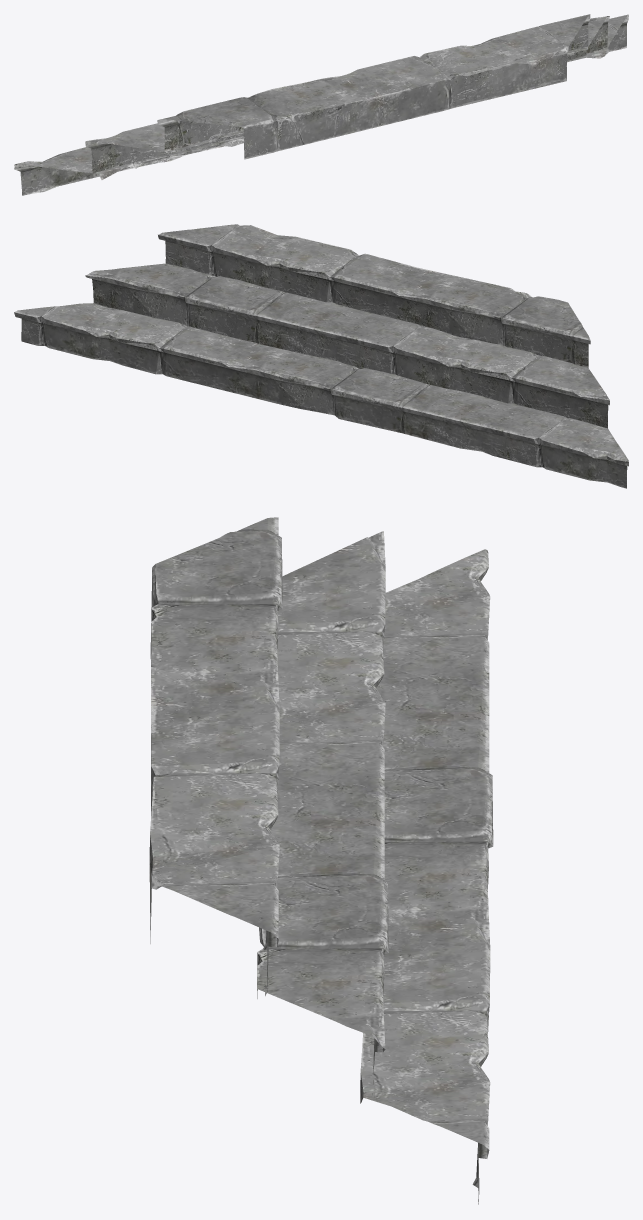
The picture shows the model from 3 angles, top to bottom: view 1: azimuth 30°, elevation 25°; view 2: azimuth 150°, elevation 25°; view 3: azimuth 270°, elevation 25°; orthographic projection. The views are drawn at different scales.
Visible parts, largest first — view 1: SM_Steps03_v3_LOD0; view 2: SM_Steps03_v3_LOD0; view 3: SM_Steps03_v3_LOD0.
Boxes of the visible parts, left/top/right/bottom form: SM_Steps03_v3_LOD0: left=14, top=14, right=628, bottom=195; SM_Steps03_v3_LOD0: left=14, top=224, right=628, bottom=488; SM_Steps03_v3_LOD0: left=149, top=517, right=493, bottom=1204.
Bounding box in the file's own units: 6.09 × 0.8973 × 1.48.
1 material, 1 textured.
